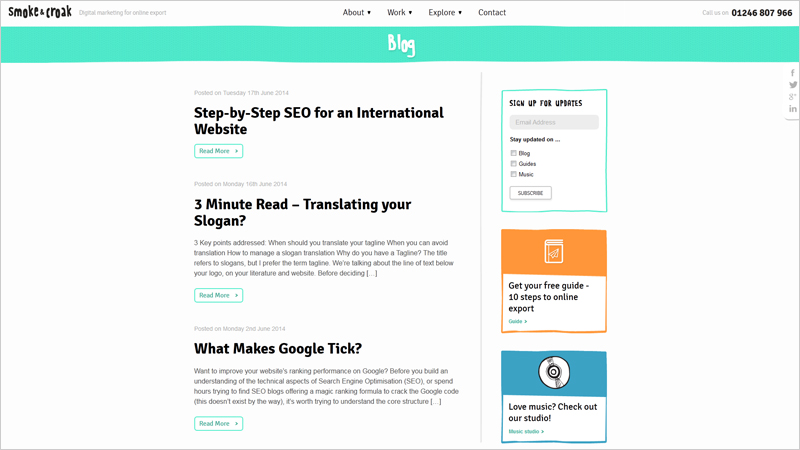Menu Bar: (334, 0, 515, 27)
Nav Bar: (785, 68, 800, 118)
Side Bar: (481, 69, 626, 450)
